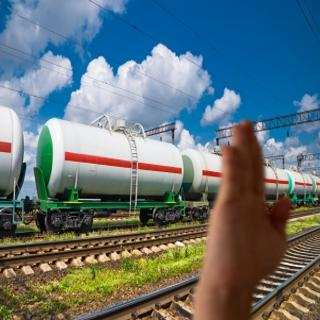RIGHT: (202, 113, 296, 295)
